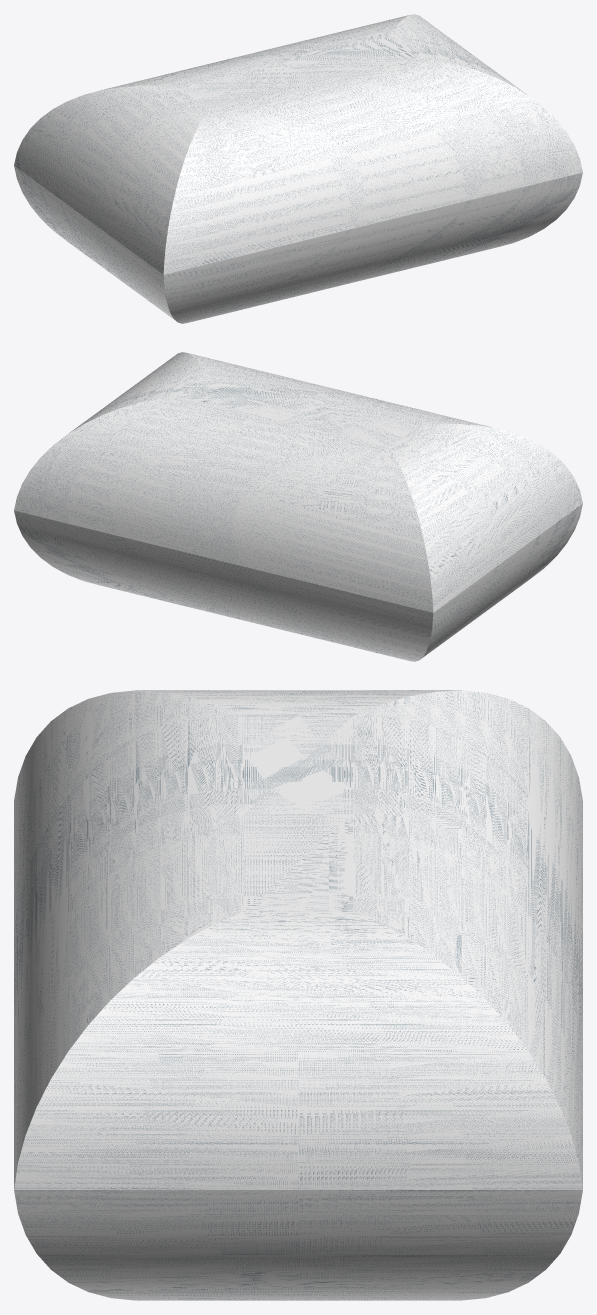
Rendered from testbox.fbx.
The picture shows the model from 3 angles, top to bottom: view 1: azimuth 30°, elevation 25°; view 2: azimuth 150°, elevation 25°; view 3: azimuth 270°, elevation 25°; orthographic projection. The views are drawn at different scales.
Parts seen in each view (by area): view 1: Model; view 2: Model; view 3: Model.
Part boxes in pixels (left/top/right/bottom): Model: left=14, top=14, right=582, bottom=323; Model: left=14, top=352, right=582, bottom=661; Model: left=14, top=690, right=582, bottom=1300.
Bounding box in the file's own units: 210348 × 91555 × 130002.
